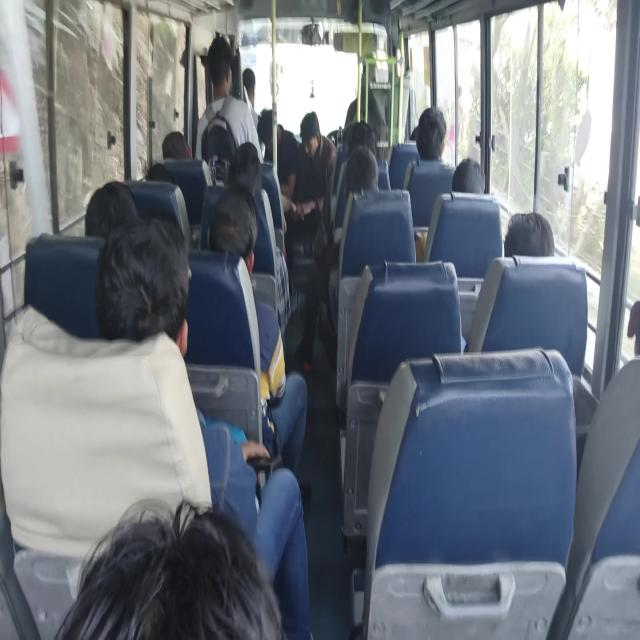person: (100, 522, 266, 640), (104, 249, 199, 395), (208, 181, 258, 267), (510, 204, 560, 287), (622, 278, 640, 456), (86, 176, 129, 248), (350, 147, 393, 216), (128, 144, 162, 197), (230, 144, 255, 208), (458, 157, 488, 210), (255, 114, 288, 162), (417, 100, 441, 164), (210, 46, 234, 108), (295, 121, 327, 166), (168, 126, 194, 173), (349, 122, 371, 160), (238, 71, 256, 111), (335, 121, 358, 152), (404, 106, 420, 138)
